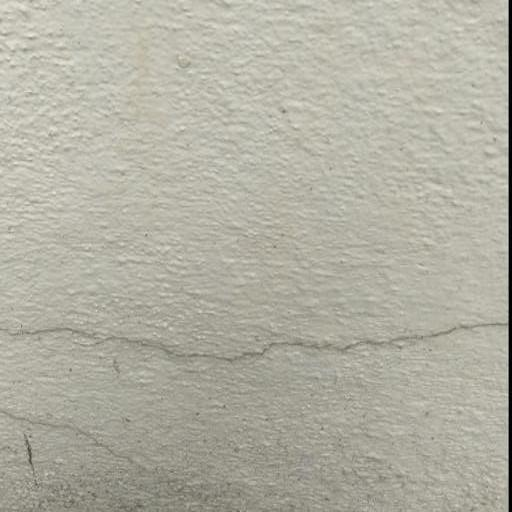minor_crack: (0, 303, 505, 371), (0, 394, 165, 481)
